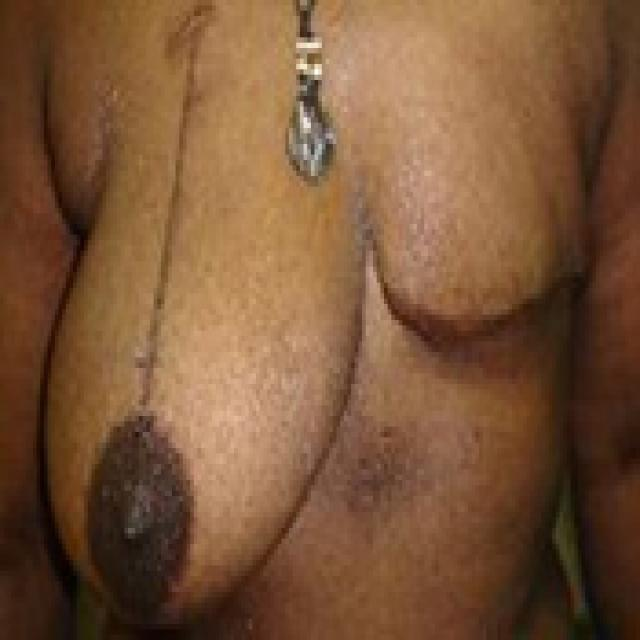Seno herido: (369, 108, 601, 389)
Seno ileso: (32, 107, 366, 640)
